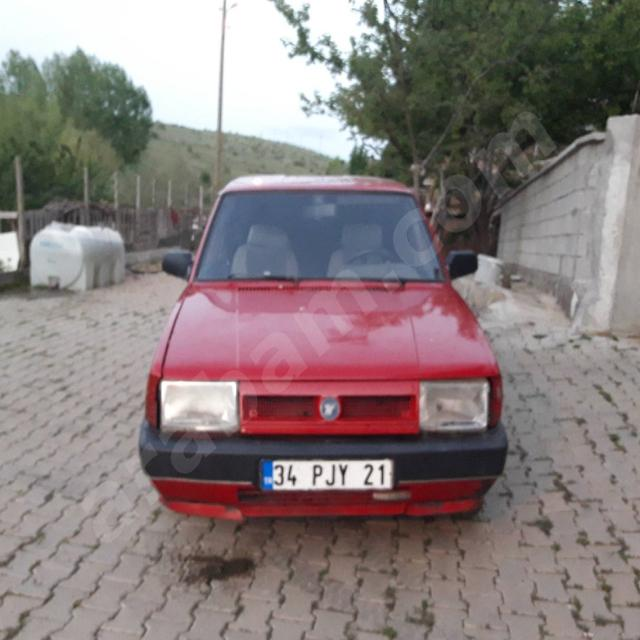license_plate: (261, 458, 393, 489)
